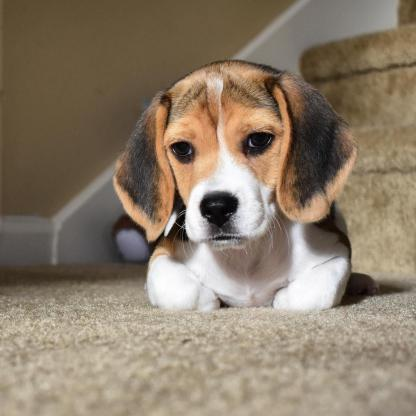Bigl: (113, 58, 366, 314)
